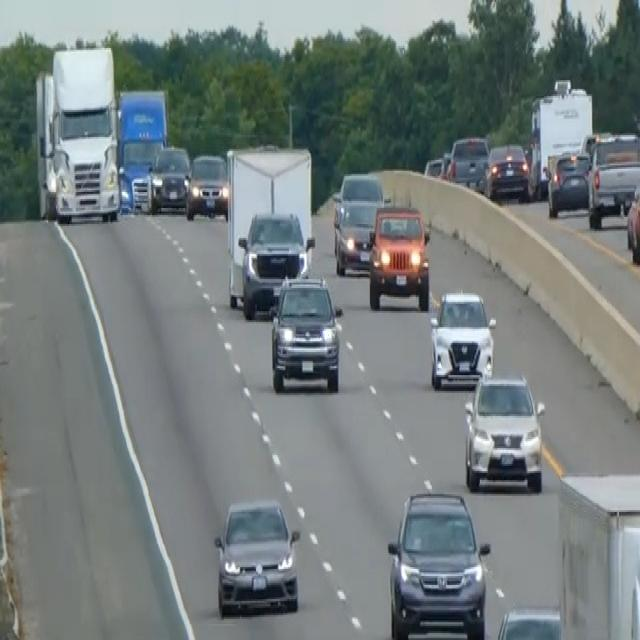car: (385, 487, 490, 638), (212, 494, 301, 619), (462, 370, 546, 492), (235, 206, 311, 316), (429, 286, 496, 389), (368, 201, 430, 311), (332, 170, 385, 276), (586, 130, 639, 228), (546, 147, 590, 217), (185, 151, 228, 219), (149, 142, 190, 212), (485, 140, 529, 201), (492, 603, 563, 638), (447, 134, 490, 188), (625, 174, 639, 265), (423, 154, 446, 180)
jeep: (268, 272, 343, 395)
lorry: (34, 43, 121, 224)
